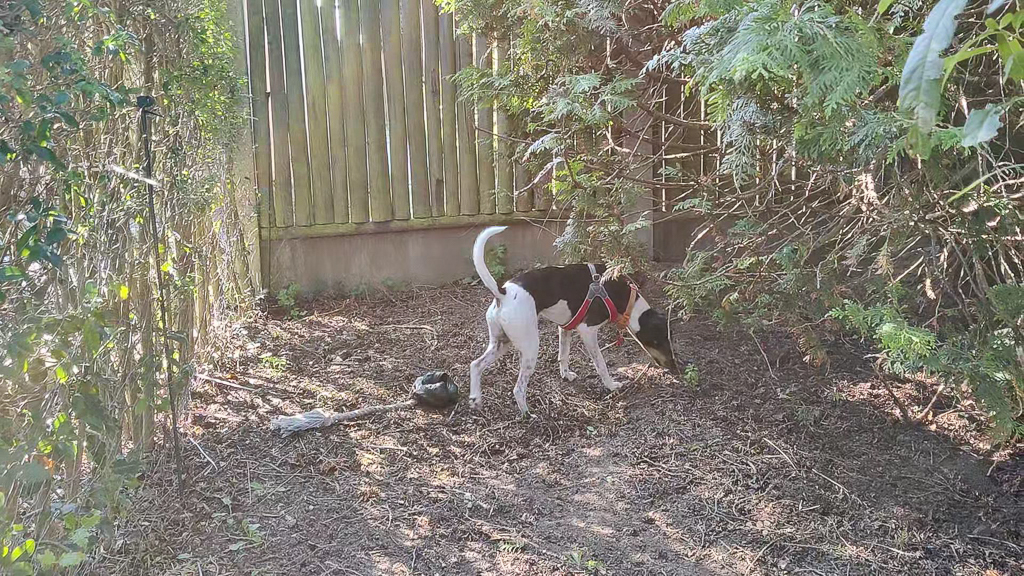Dog: (457, 219, 696, 427)
